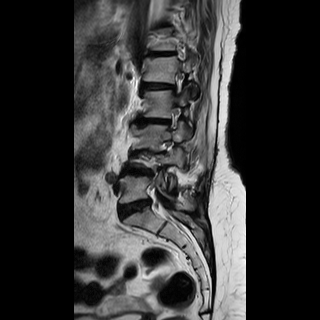LFS0: (164, 66, 197, 100), (161, 104, 188, 136)
